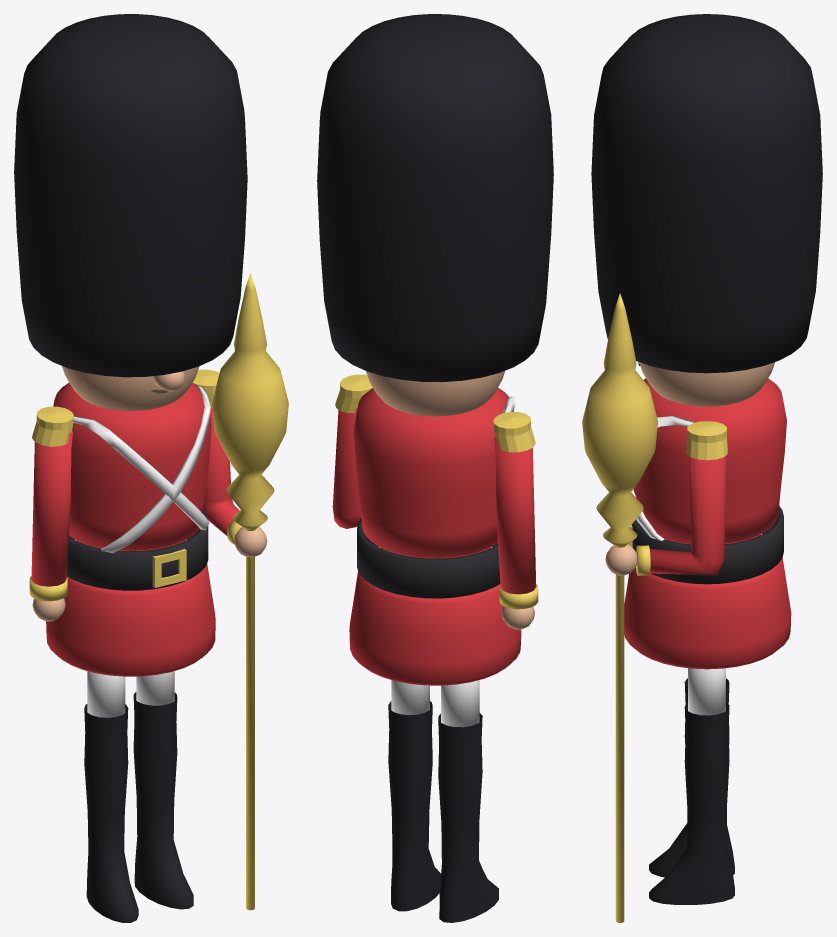
File: SOLDADINHO.fbx
3 renders of one model, left to right at view 1: azimuth 30°, elevation 25°; view 2: azimuth 150°, elevation 25°; view 3: azimuth 270°, elevation 25°, orthographic. The views are drawn at different scales.
Parts seen in each view (by area): view 1: GUARDA; view 2: GUARDA; view 3: GUARDA.
Part boxes in pixels (bbox=[...]): GUARDA: bbox=[14, 14, 288, 922]; GUARDA: bbox=[317, 14, 553, 922]; GUARDA: bbox=[582, 14, 822, 922].
Size of the model in its own units: 0.5559 by 2.18 by 0.5575.
